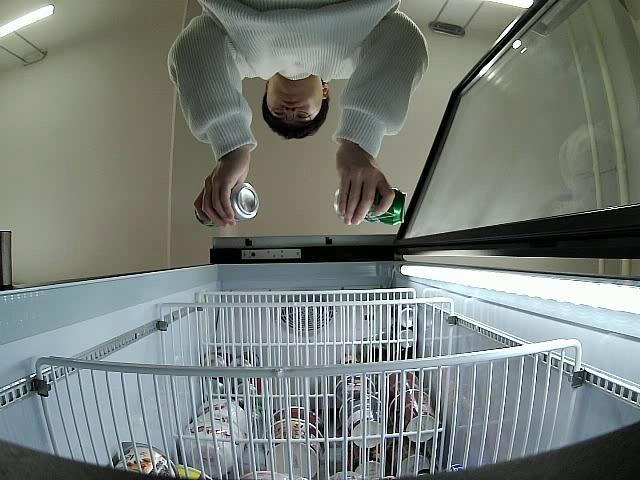12_chilsungCider: (193, 182, 260, 228), (333, 188, 408, 226)
